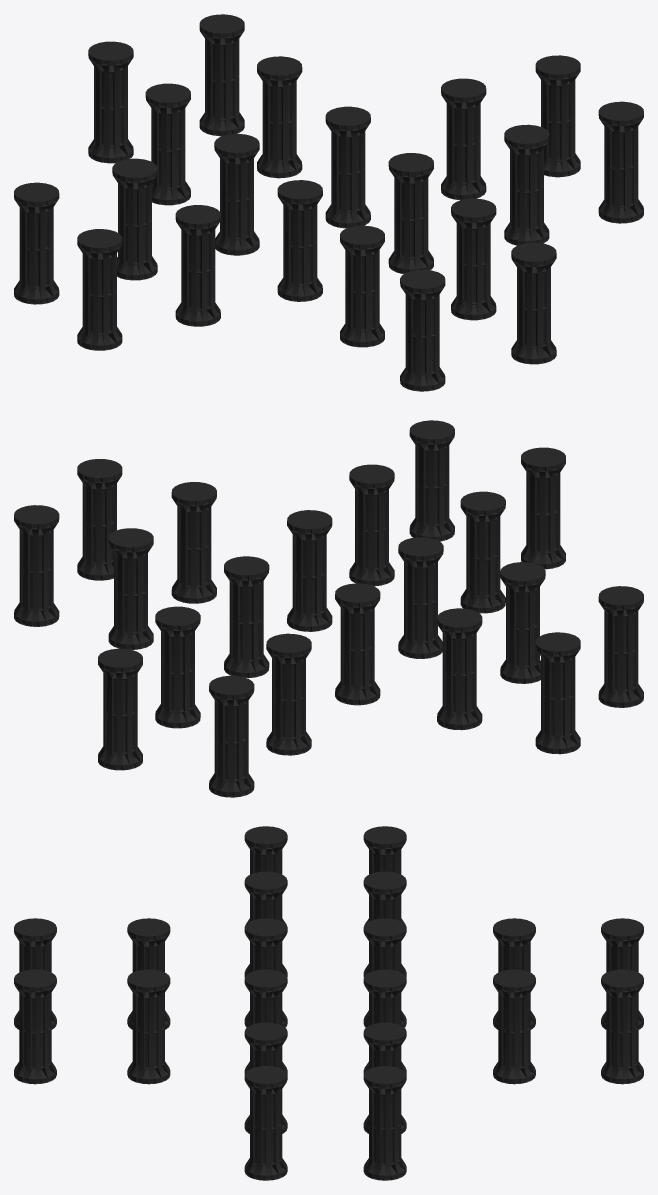
Rendered from pillars.fbx.
The picture shows the model from 3 angles, top to bottom: view 1: azimuth 30°, elevation 25°; view 2: azimuth 150°, elevation 25°; view 3: azimuth 270°, elevation 25°; orthographic projection. The views are drawn at different scales.
Parts seen in each view (by area): view 1: pCylinder28; view 2: pCylinder28; view 3: pCylinder28.
Boxes of the visible parts, <box> form: pCylinder28: <box>14,14,643,391</box>; pCylinder28: <box>14,420,643,797</box>; pCylinder28: <box>14,826,643,1180</box>.
Bounding box in the file's own units: 61.4 × 10.74 × 63.43.
